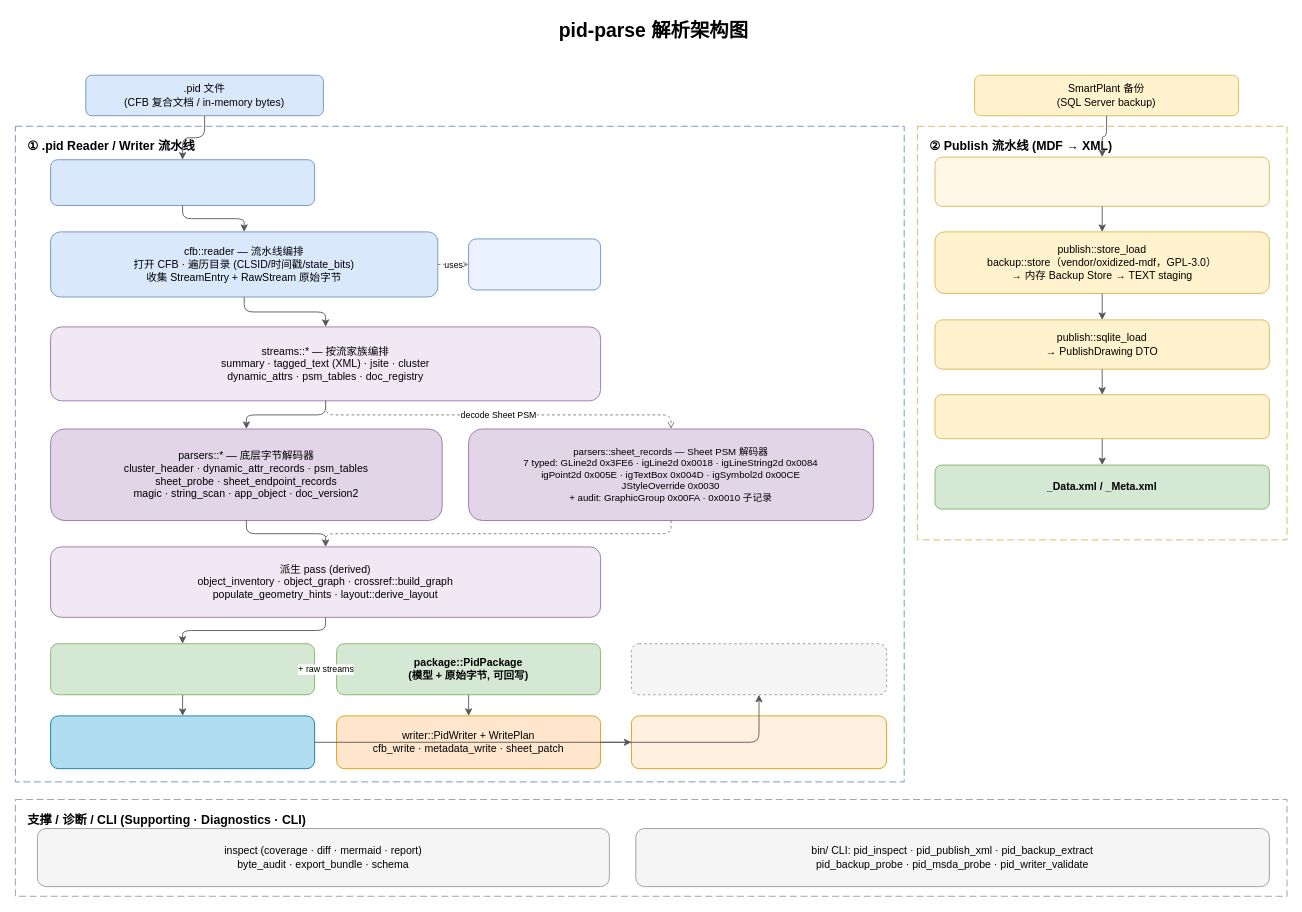
The diagram is 1302 pixels wide and 912 high, and some of its shapes have lost their labels. Each missing label, with the centre of its shape:
".pid 回写 (round-trip) 未知流字节级保留" goes at (759,742).
"api::PidParser + ParseOptions (Full / Light profile)" goes at (182,182).
"backup::mtf + bin/pid_backup_extract → 还原 Export.mdf" goes at (1101,181).
"cfb::tree build_tree()" goes at (534,264).
"geometry::build_normalized_geometry → NormalizedPidGeometry (带 provenance)" goes at (182,742).
"model::PidDocument (规范化解码模型)" goes at (182,669).
"publish::xml_writer" goes at (1101,416).
"下游渲染 / 消费者 (e.g. H7CAD)" goes at (759,669).
